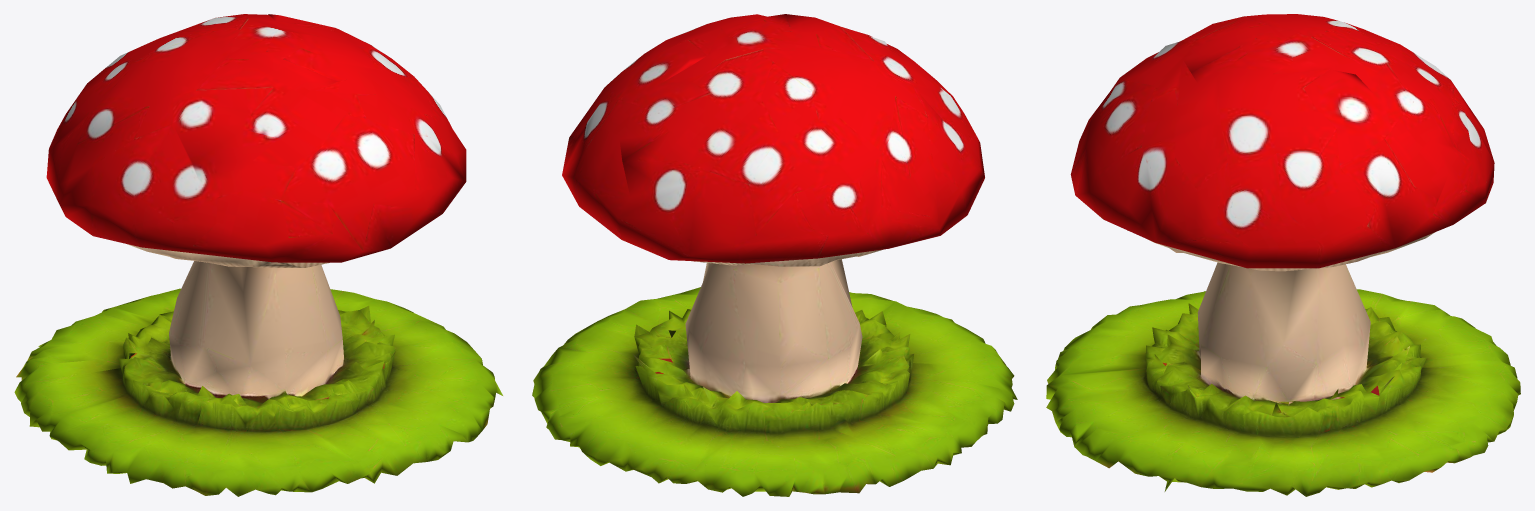
File: hazard_bumper_mushroom.glb
3 renders of one model, left to right at view 1: azimuth 30°, elevation 25°; view 2: azimuth 150°, elevation 25°; view 3: azimuth 270°, elevation 25°, orthographic.
Visible parts, largest first — view 1: Mesh_0; view 2: Mesh_0; view 3: Mesh_0.
Boxes of the visible parts, left/top/right/bottom form: Mesh_0: left=14, top=14, right=502, bottom=496; Mesh_0: left=532, top=14, right=1017, bottom=496; Mesh_0: left=1046, top=14, right=1520, bottom=496.
Bounding box in the file's own units: 1.83 × 1.56 × 1.82.
1 material, 1 textured.
